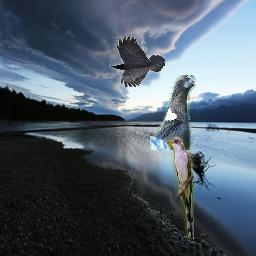Crow: (150, 76, 196, 151), (109, 37, 165, 88)
Cuckoo: (168, 137, 195, 240)
